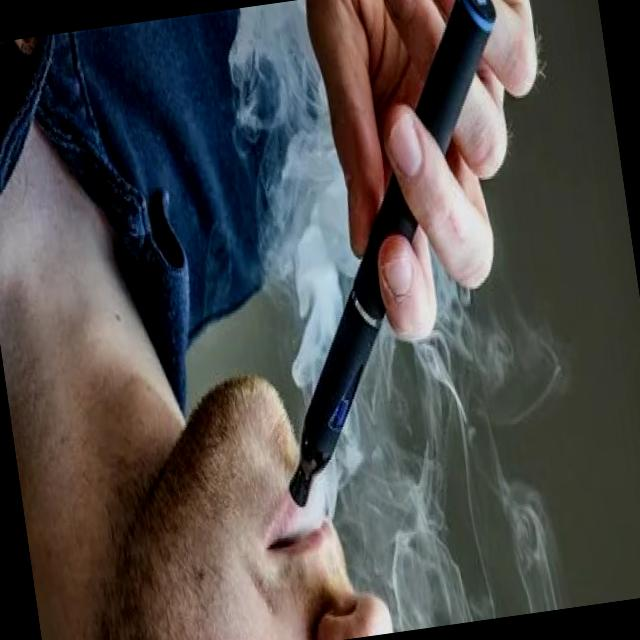smoke: (223, 0, 562, 513)
